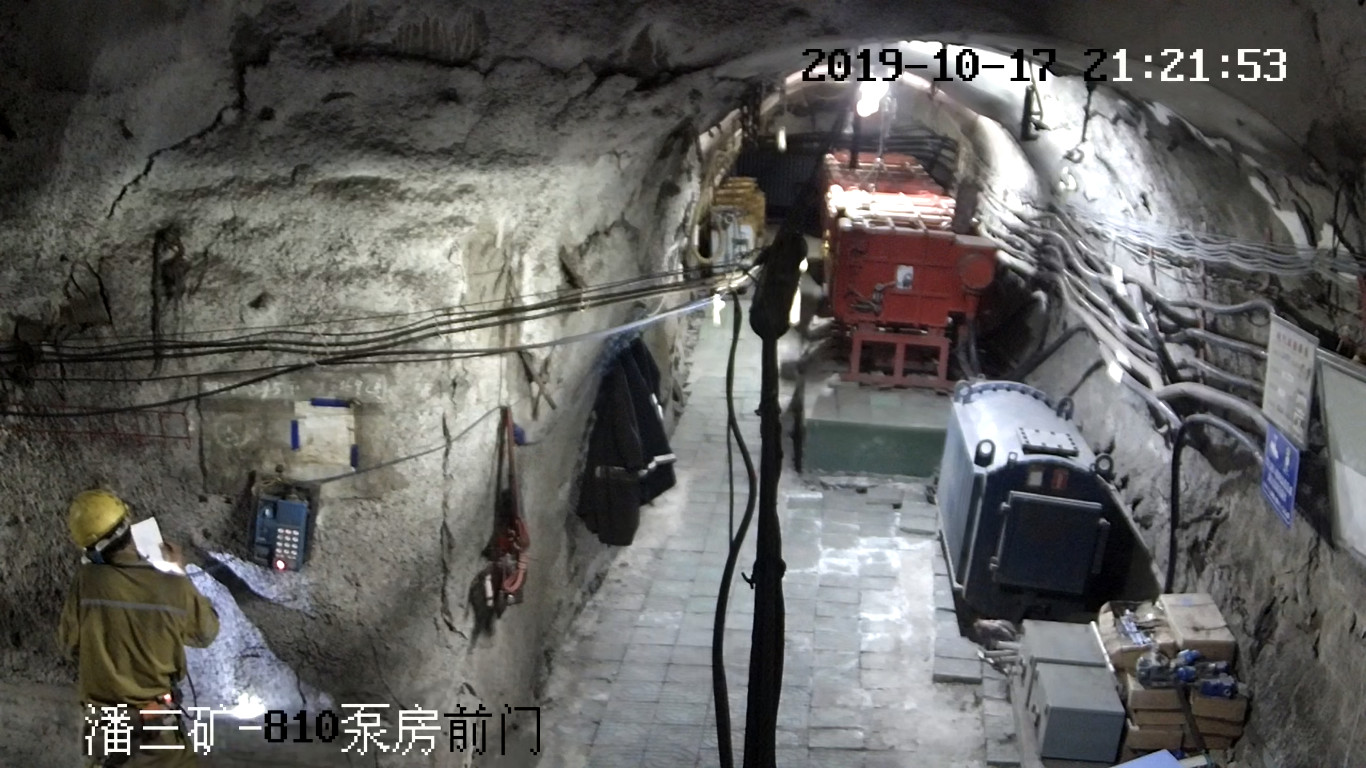helmet: (69, 490, 133, 550)
